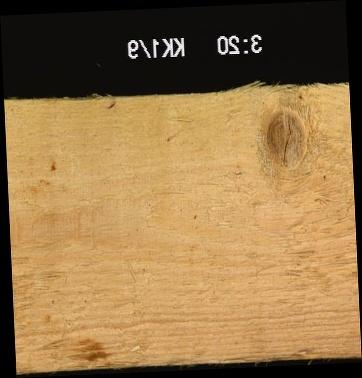sound_knot: (260, 85, 314, 182)
